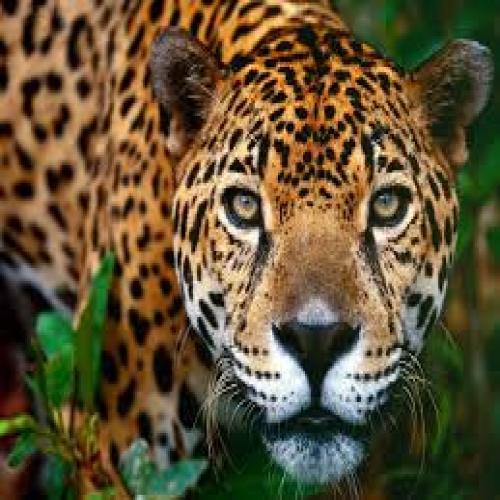jaguar_not-endangered: (0, 0, 493, 494)
